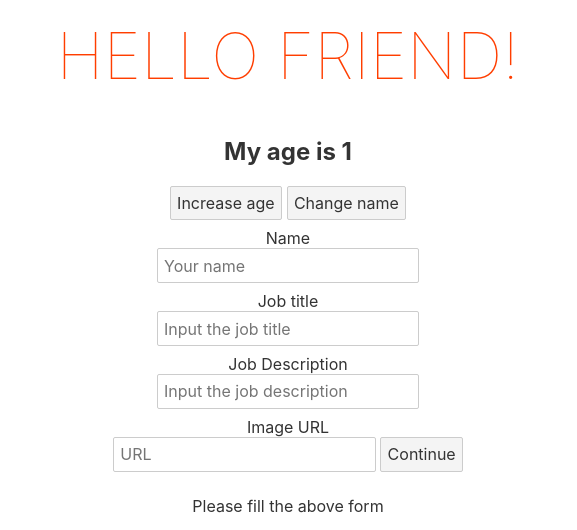
Changes name on h1 element when a name is inputted
In the field with placeholder "Your name": (288, 266) top-left (157, 248), bottom-right (419, 283), type "my-name"
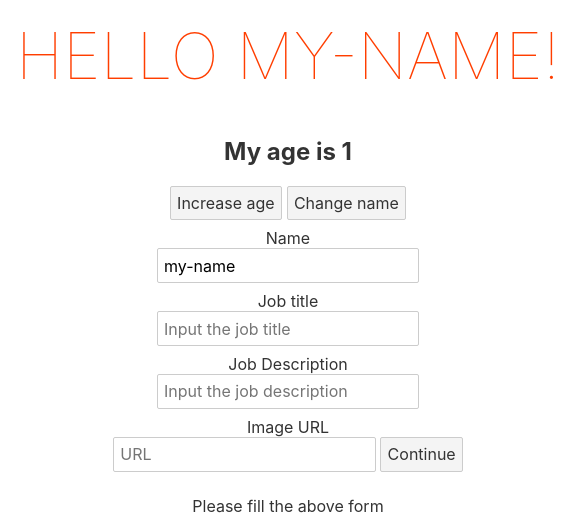
Result: the heading "Hello MY-NAME!" is shown at top-left (16, 17), bottom-right (560, 94)
